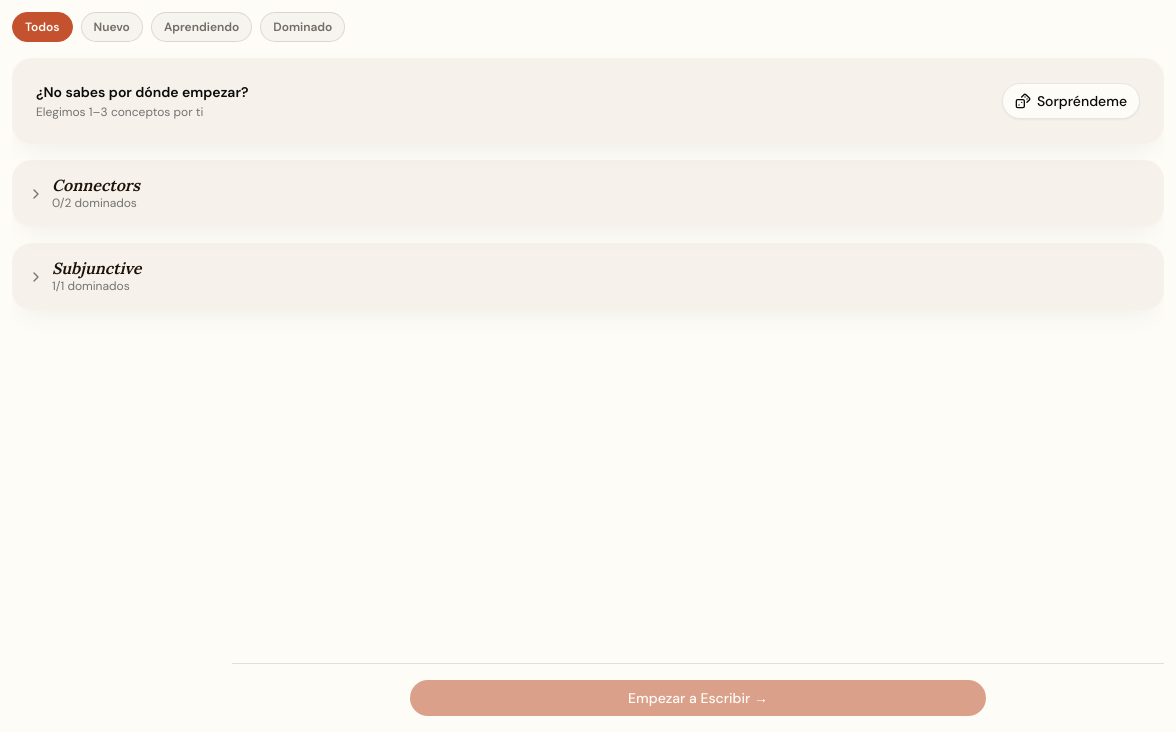
ConceptPicker › Sorpréndeme selects exactly 1 concept when random returns 0
Click the button "Sorpréndeme". click: (1071, 101)
box: [1002,83,1140,119]
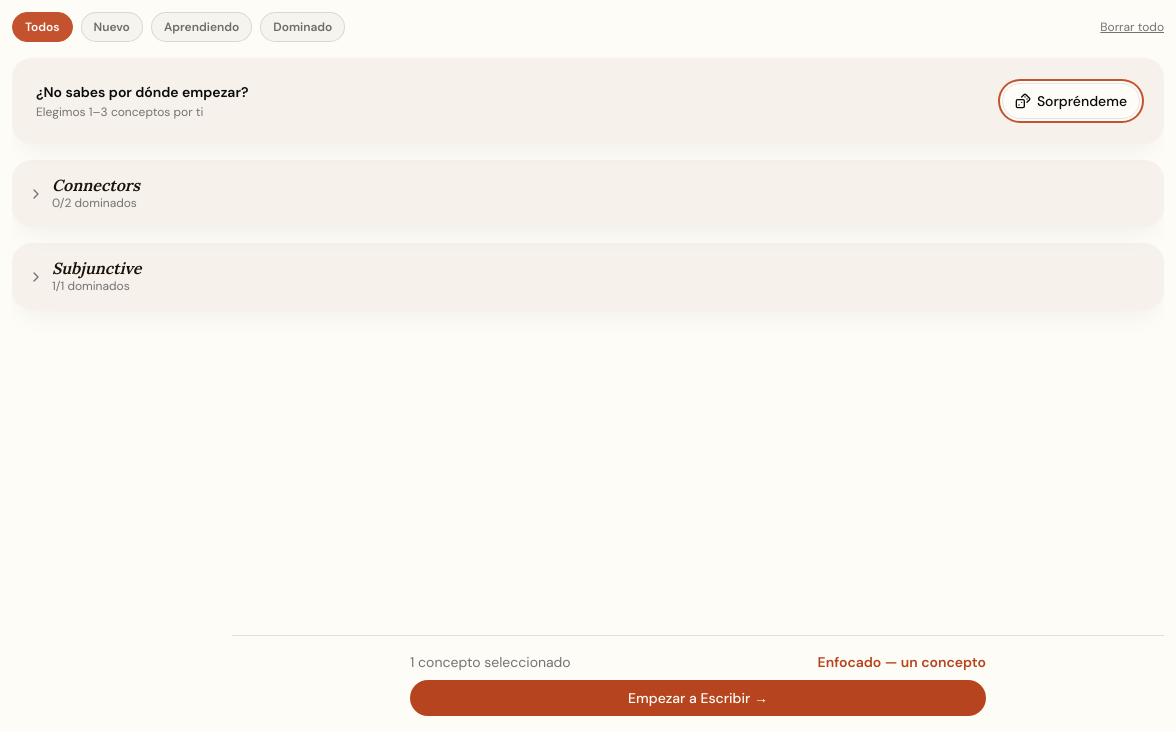
Expected: the text "1 concepto seleccionado" is shown, [410,652,571,672]
Expected: the text "Enfocado — un concepto" is shown, [818,652,986,672]
